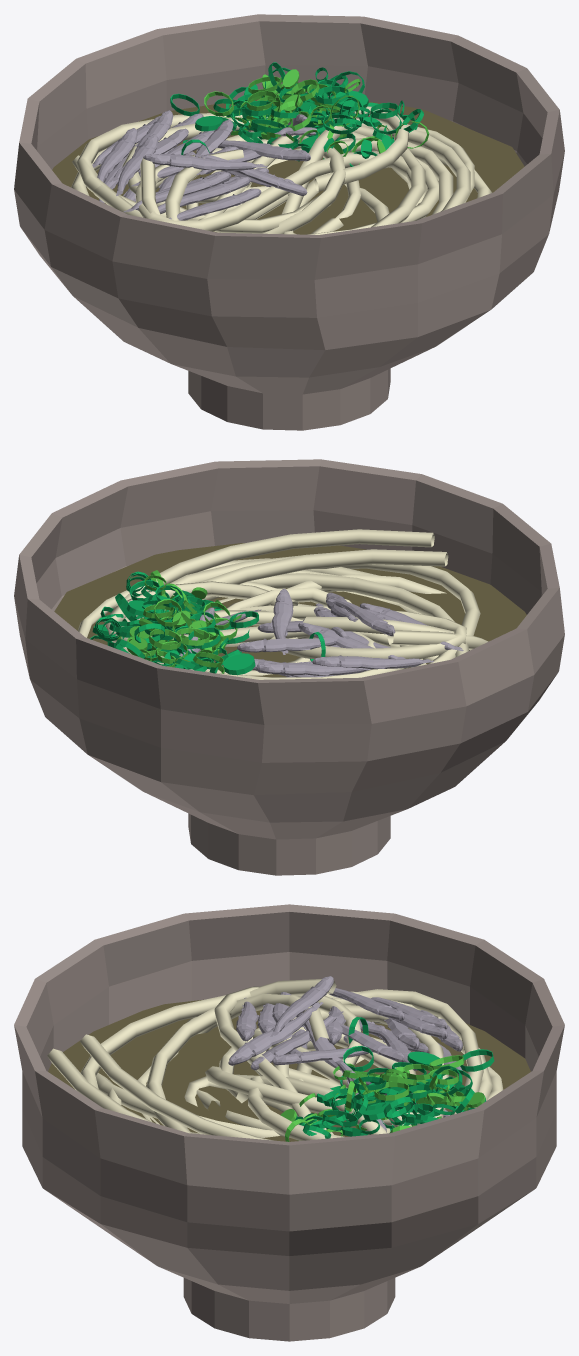
File: udon.fbx
The picture shows the model from 3 angles, top to bottom: view 1: azimuth 30°, elevation 25°; view 2: azimuth 150°, elevation 25°; view 3: azimuth 270°, elevation 25°; orthographic projection. The views are drawn at different scales.
Visible parts, largest first — view 1: utuwa.001, men.001, negi, iriko, dasi; view 2: utuwa.001, men.001, negi, dasi, iriko; view 3: utuwa.001, men.001, iriko, negi, dasi.
Part boxes in pixels (<box>): utuwa.001: <box>14,14,564,430</box>; men.001: <box>71,106,492,234</box>; negi: <box>170,62,429,166</box>; iriko: <box>92,110,316,220</box>; dasi: <box>52,99,524,234</box>; utuwa.001: <box>14,459,564,875</box>; men.001: <box>78,529,488,679</box>; negi: <box>90,570,325,675</box>; dasi: <box>54,543,526,677</box>; iriko: <box>179,588,463,677</box>; utuwa.001: <box>14,904,564,1341</box>; men.001: <box>47,979,503,1140</box>; iriko: <box>228,976,462,1132</box>; negi: <box>280,1017,494,1141</box>; dasi: <box>48,999,530,1141</box>.
Bounding box in the file's own units: 220 × 112 × 206.
